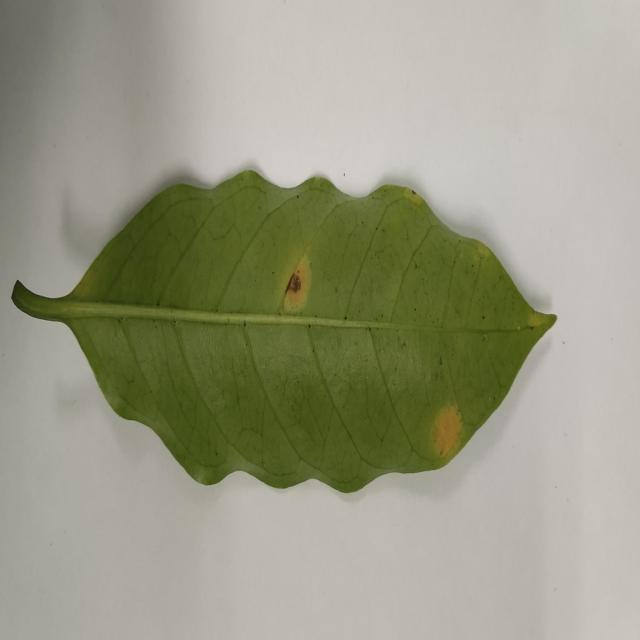Enfermedad-Roya: (11, 169, 557, 498)
